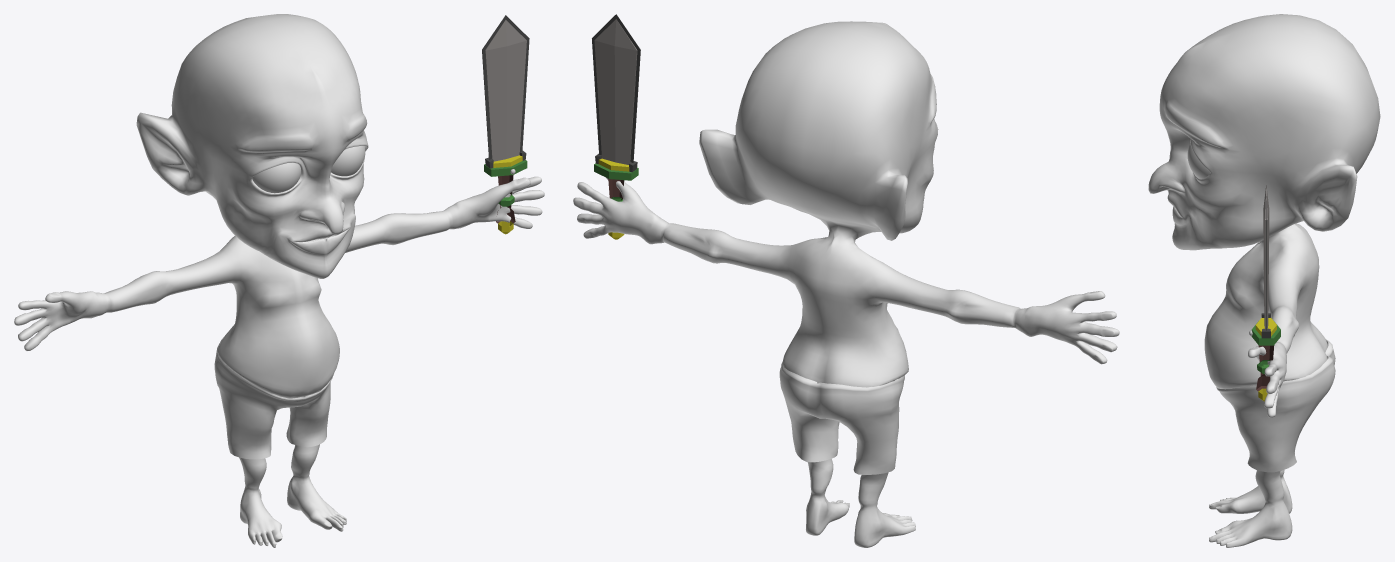
Rendered from GOBLIN_versao2.fbx.
3 renders of one model, left to right at view 1: azimuth 30°, elevation 25°; view 2: azimuth 150°, elevation 25°; view 3: azimuth 270°, elevation 25°, orthographic. The views are drawn at different scales.
Visible parts, largest first — view 1: mesh Geometry Group jesuinoPequeno_short_M.001, espada; view 2: mesh Geometry Group jesuinoPequeno_short_M.001, espada; view 3: mesh Geometry Group jesuinoPequeno_short_M.001, espada.
Part boxes in pixels (x1,y1,x2,y2): mesh Geometry Group jesuinoPequeno_short_M.001: [14, 14, 544, 547]; espada: [482, 15, 529, 234]; mesh Geometry Group jesuinoPequeno_short_M.001: [573, 21, 1119, 547]; espada: [592, 14, 640, 239]; mesh Geometry Group jesuinoPequeno_short_M.001: [1148, 14, 1380, 547]; espada: [1249, 185, 1280, 401].
Size of the model in its own units: 102 by 90 by 37.91.
